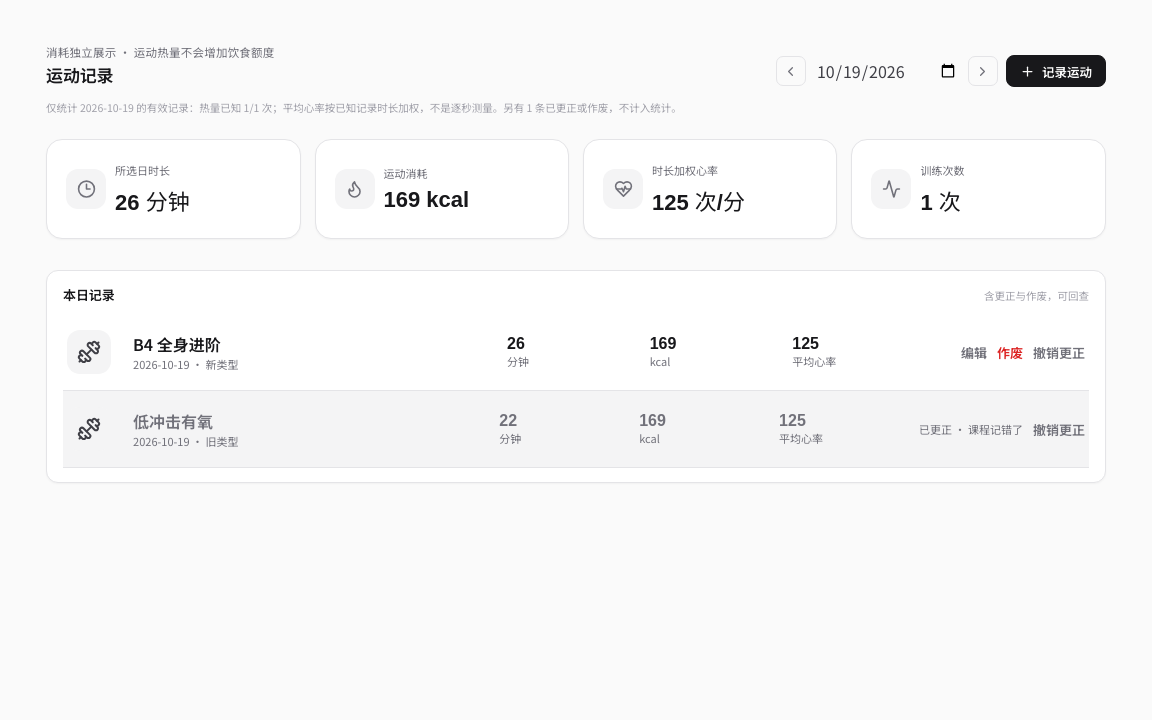
Test: offers undo on the superseded row that still owns the active head
Expected: the element with class "workout-row" shows "已更正", [919,421,952,437]
Click the button "撤销更正" next to "· 课程记错了".
click(1059, 429)  # box [1033,420,1085,439]
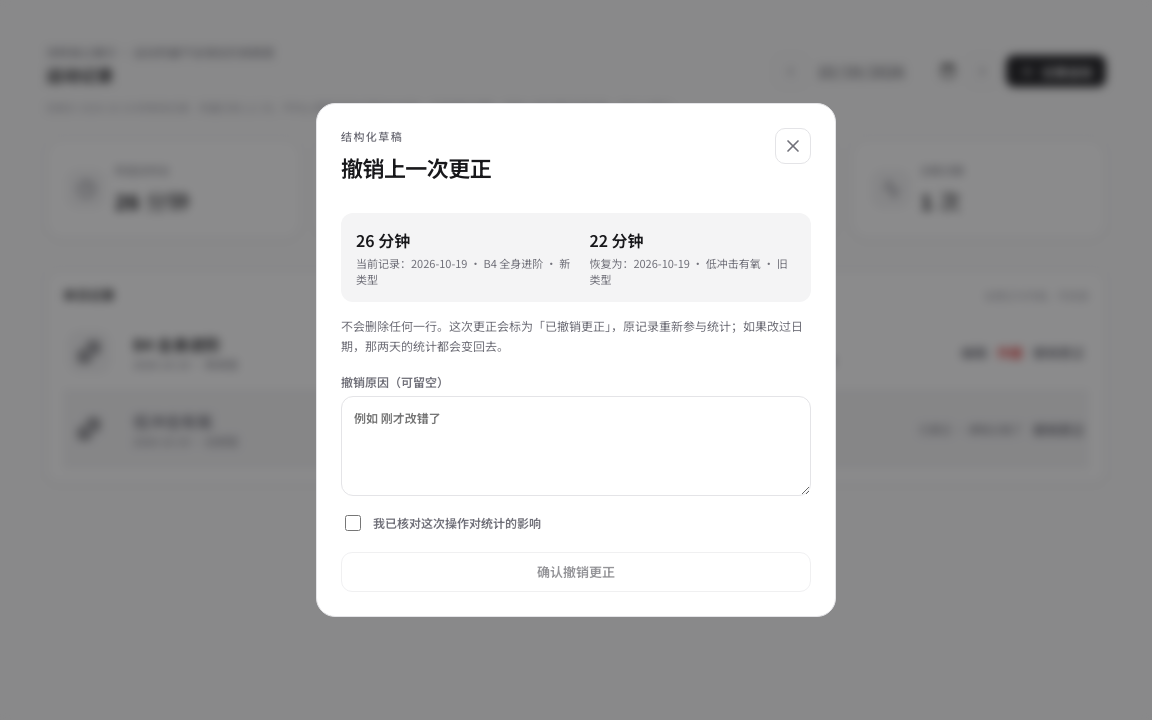
Result: the dialog with class "modal" shows "恢复为" at [589,255,633,271]
Result: the dialog with class "modal" shows "低冲击有氧" at [706,255,761,271]
